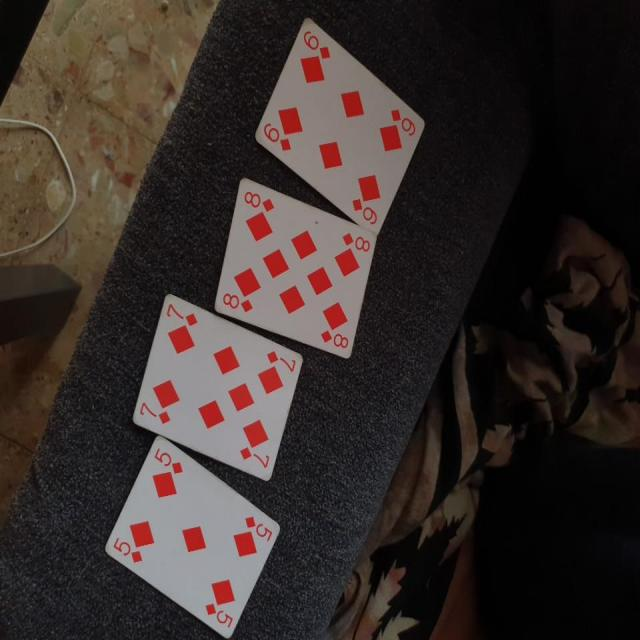5 Diamonds: (101, 436, 280, 636)
6 Diamonds: (250, 13, 425, 242)
7 Diamonds: (130, 294, 303, 486)
8 Diamonds: (212, 176, 377, 362)
